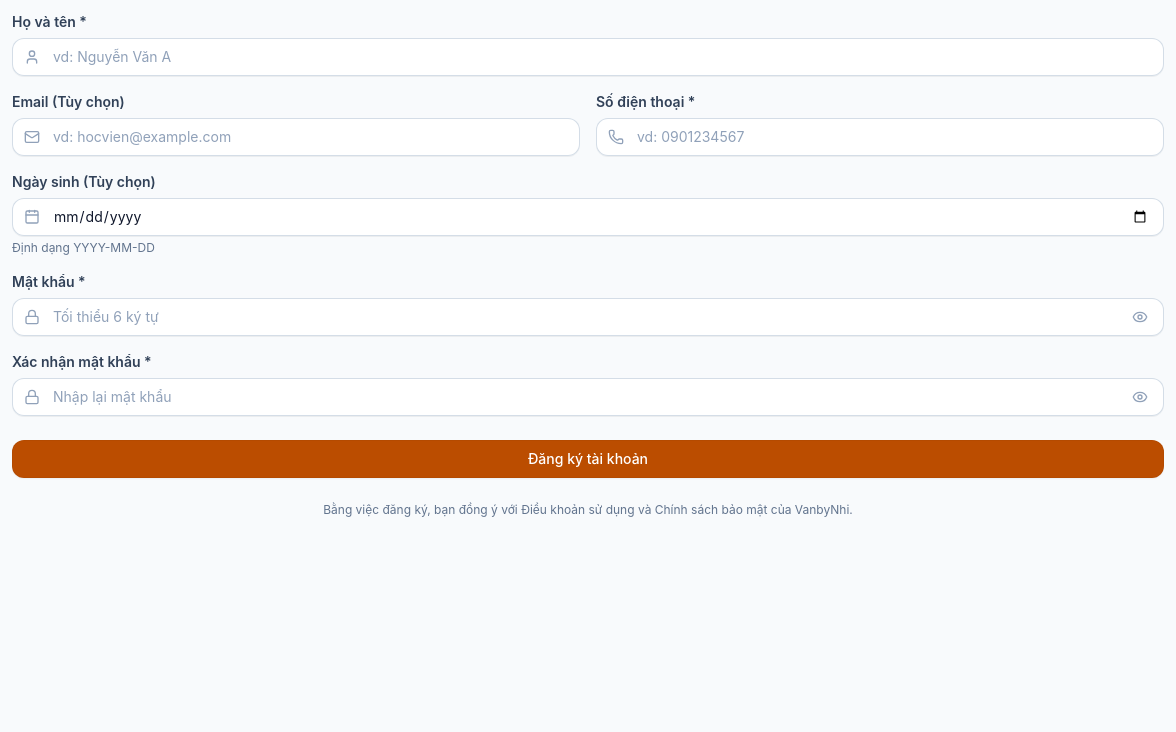
RegisterForm › validates invalid email format
Type "invalid-email" into the field labelled "Email (Tùy chọn)" at (296,137), box [12, 118, 580, 156]
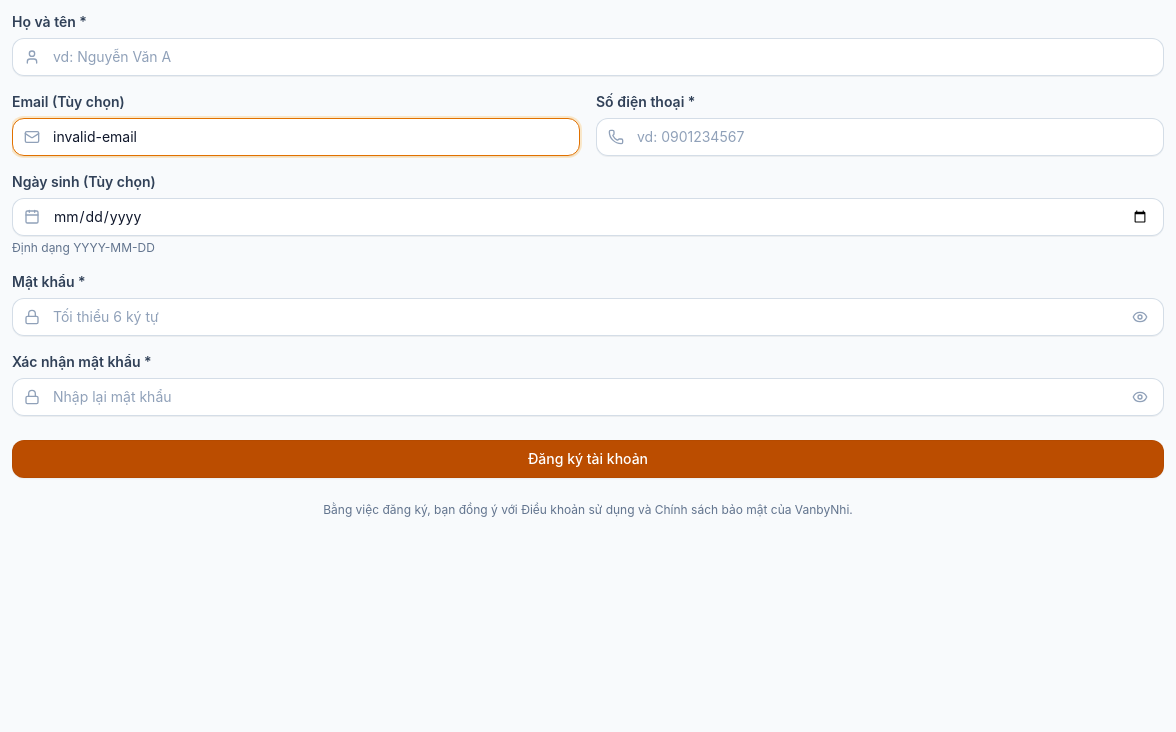
Click the button "Đăng ký tài khoản" at (588,459), box [12, 440, 1164, 478]
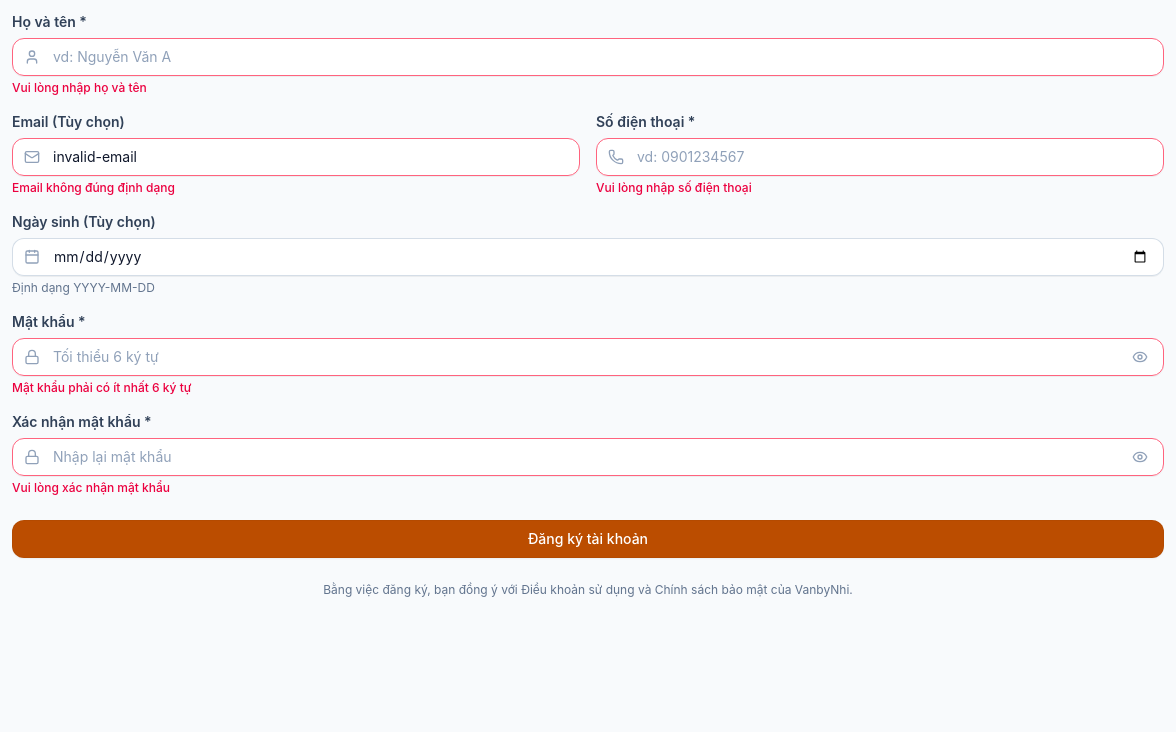
Expected: the text "Email không đúng định dạng" is shown, [12, 180, 175, 195]
